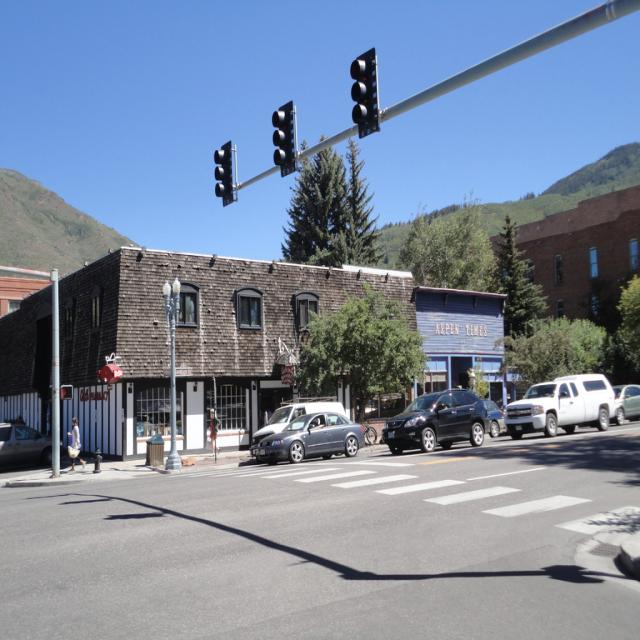car: (381, 383, 490, 455), (500, 372, 614, 440), (254, 410, 364, 466)
